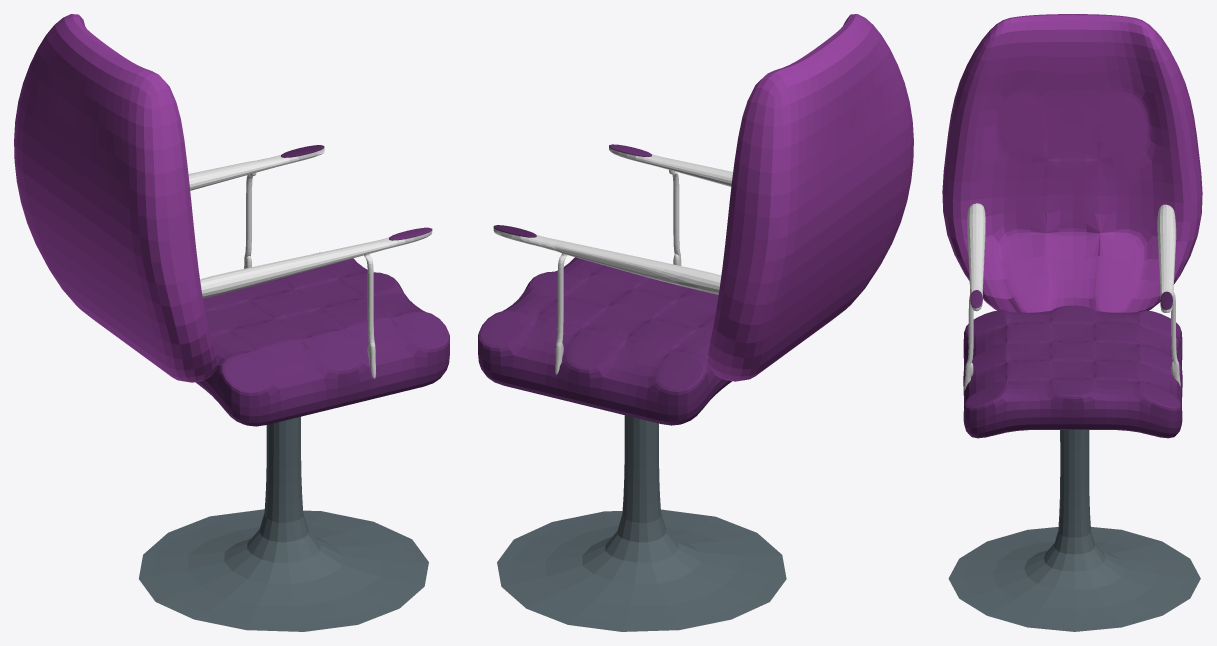
Rendered from styl.fbx.
3 views of the same model, side by side, from view 1: azimuth 30°, elevation 25°; view 2: azimuth 150°, elevation 25°; view 3: azimuth 270°, elevation 25° (orthographic). The views are drawn at different scales.
Parts seen in each view (by area): view 1: Cube, Cube.004, Cube.001, Cube.008, Cube.005, Cube.007, Cube.006; view 2: Cube, Cube.004, Cube.001, Cube.005, Cube.008, Cube.006, Cube.007; view 3: Cube, Cube.001, Cube.004, Cube.005, Cube.008, Cube.007, Cube.006.
Boxes of the visible parts, x1,y1,x2,y2 form: Cube: (14,14,217,382); Cube.004: (139,416,428,631); Cube.001: (196,252,449,426); Cube.008: (200,231,432,298); Cube.005: (188,148,324,190); Cube.007: (364,254,376,378); Cube.006: (244,173,256,268); Cube: (708,14,913,381); Cube.004: (497,415,786,631); Cube.001: (478,257,731,425); Cube.005: (493,228,721,294); Cube.008: (609,147,732,186); Cube.006: (555,253,567,374); Cube.007: (669,170,681,265); Cube: (942,14,1202,312); Cube.001: (963,305,1182,438); Cube.004: (948,430,1200,631); Cube.005: (1157,204,1176,312); Cube.008: (967,203,985,311); Cube.007: (964,296,973,390); Cube.006: (1171,291,1180,386).
Bounding box in the file's own units: 216 × 351 × 170.
